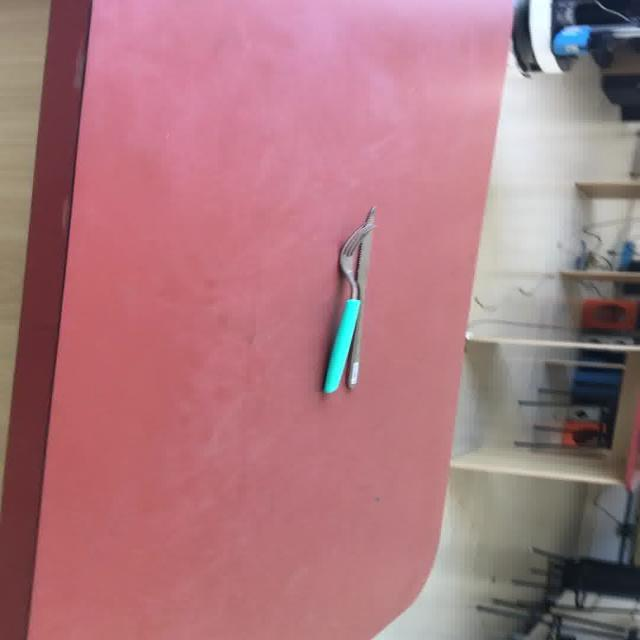fork: (320, 205, 376, 394)
knife fork: (320, 205, 377, 393)
